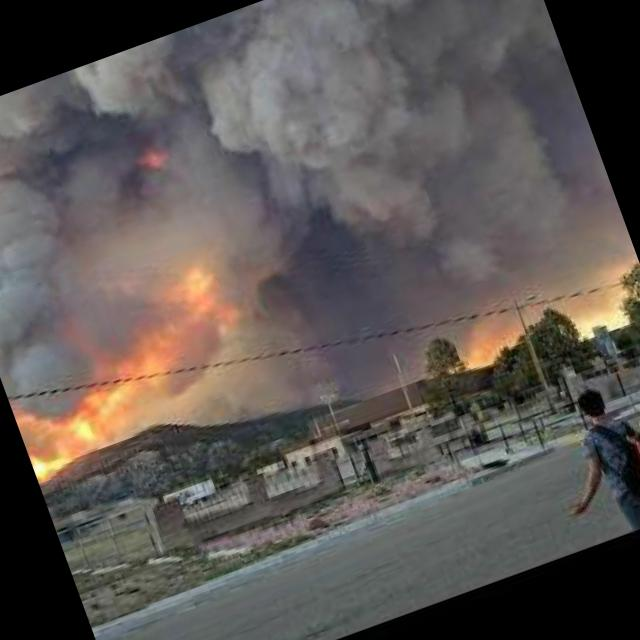fire: (13, 359, 190, 495), (112, 254, 250, 368)
